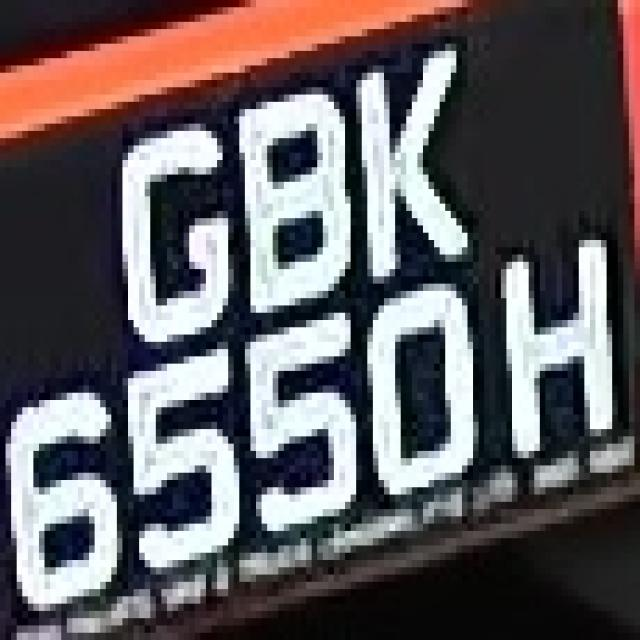0: (340, 247, 484, 509)
5: (117, 356, 250, 582), (250, 313, 378, 538)
6: (22, 371, 128, 625)
B: (228, 58, 351, 335)
G: (105, 102, 234, 364)
H: (490, 218, 623, 458)
K: (328, 15, 468, 284)
